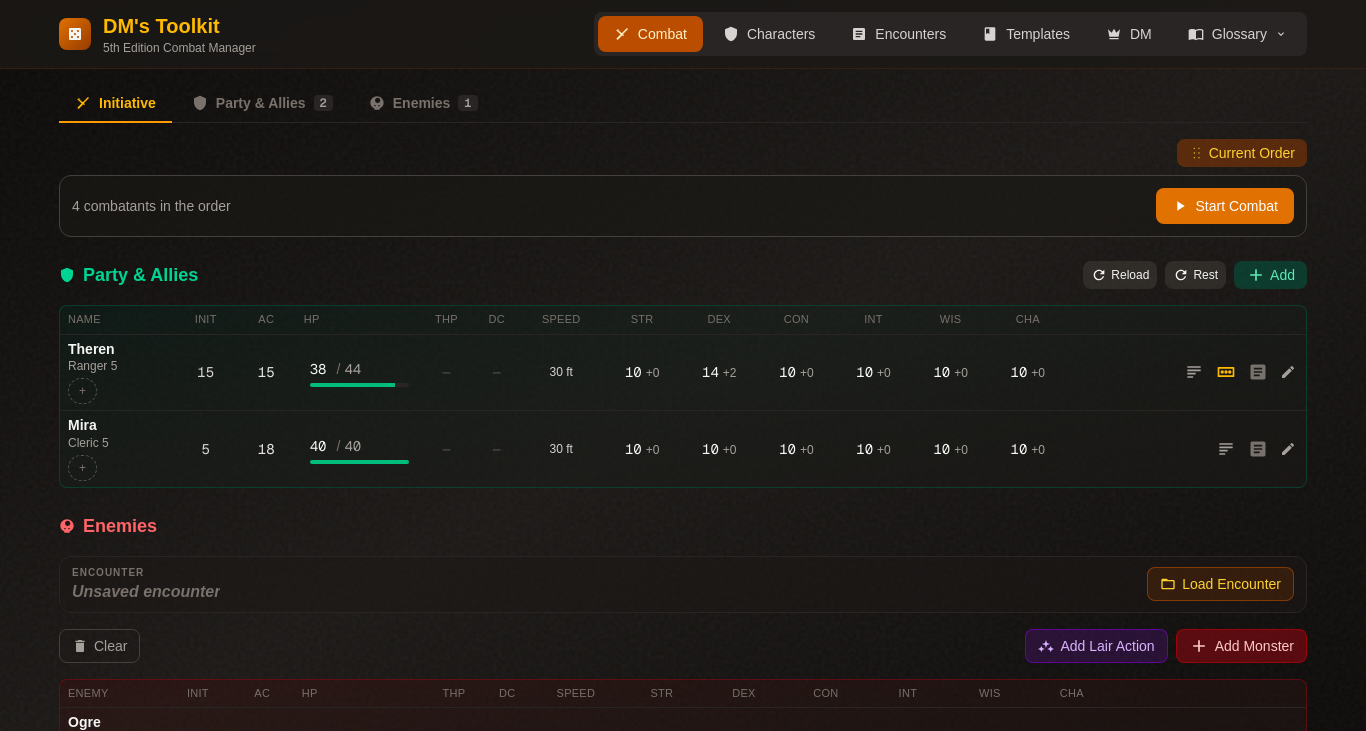
it: CombatPage — loading and layout › the party Add button opens the Add Party Member modal
Click the button "Add": [1271, 275] box [1234,261,1307,289]
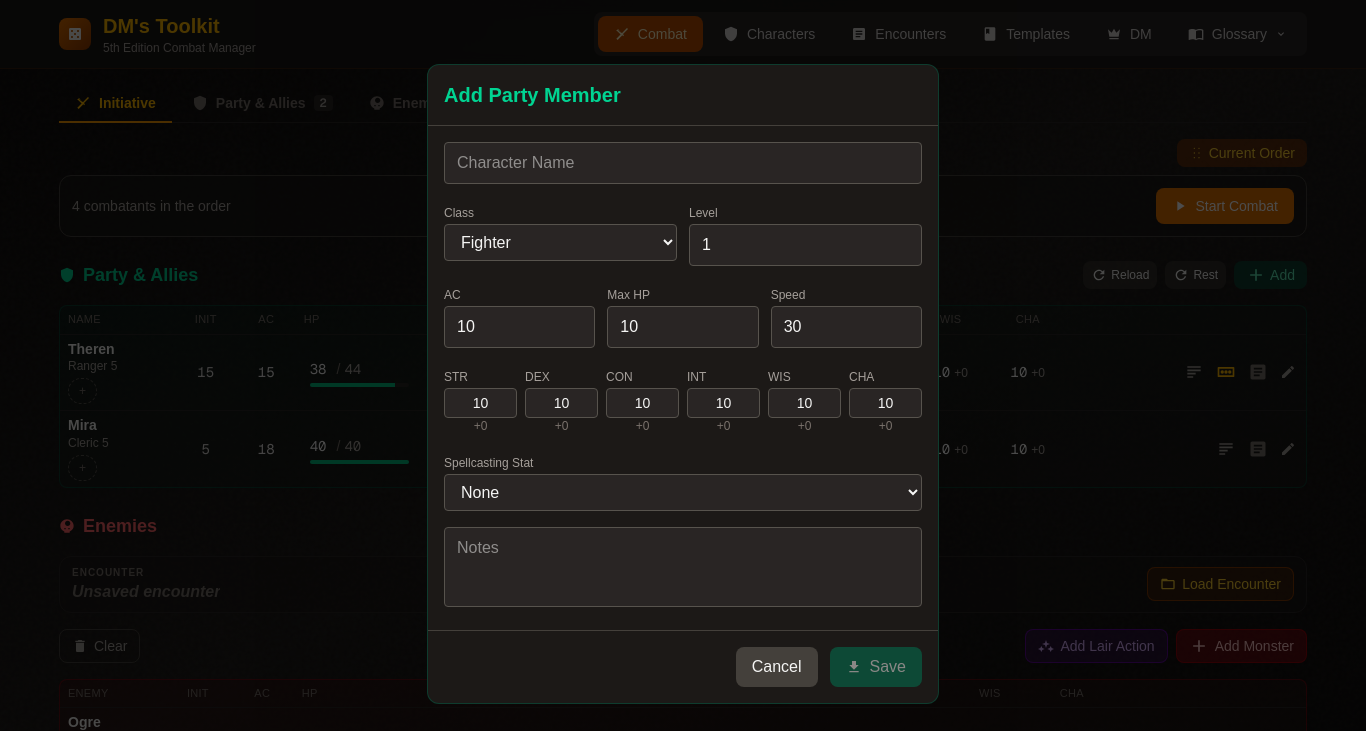
Result: the heading "Add Party Member" is shown at [444,84,621,106]
